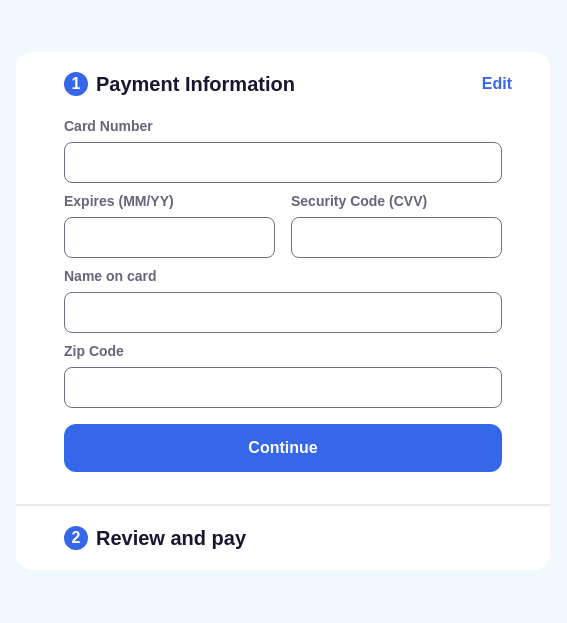
Test: PaymentForm › shows success if card name field is valid
Type "Saleh Kaddoura" into the field labelled "Name on card" at (283, 312), box [64,292,502,333]
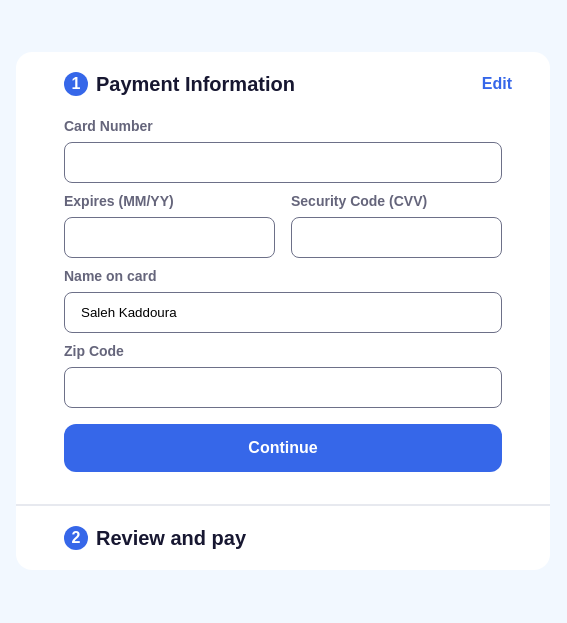
Click the button "Continue" at (283, 448), box [64,424,502,472]
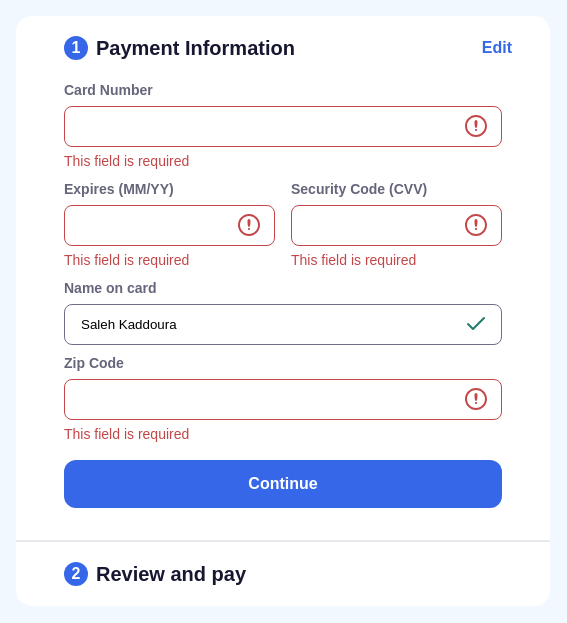
Now the icon with test id "success-icon" is shown, box [464,312,488,343]
